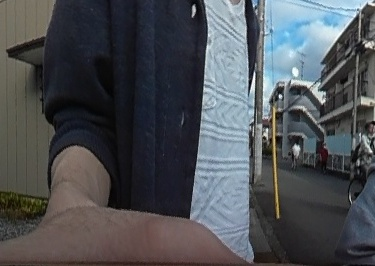person: (319, 141, 329, 171), (291, 139, 301, 166)
